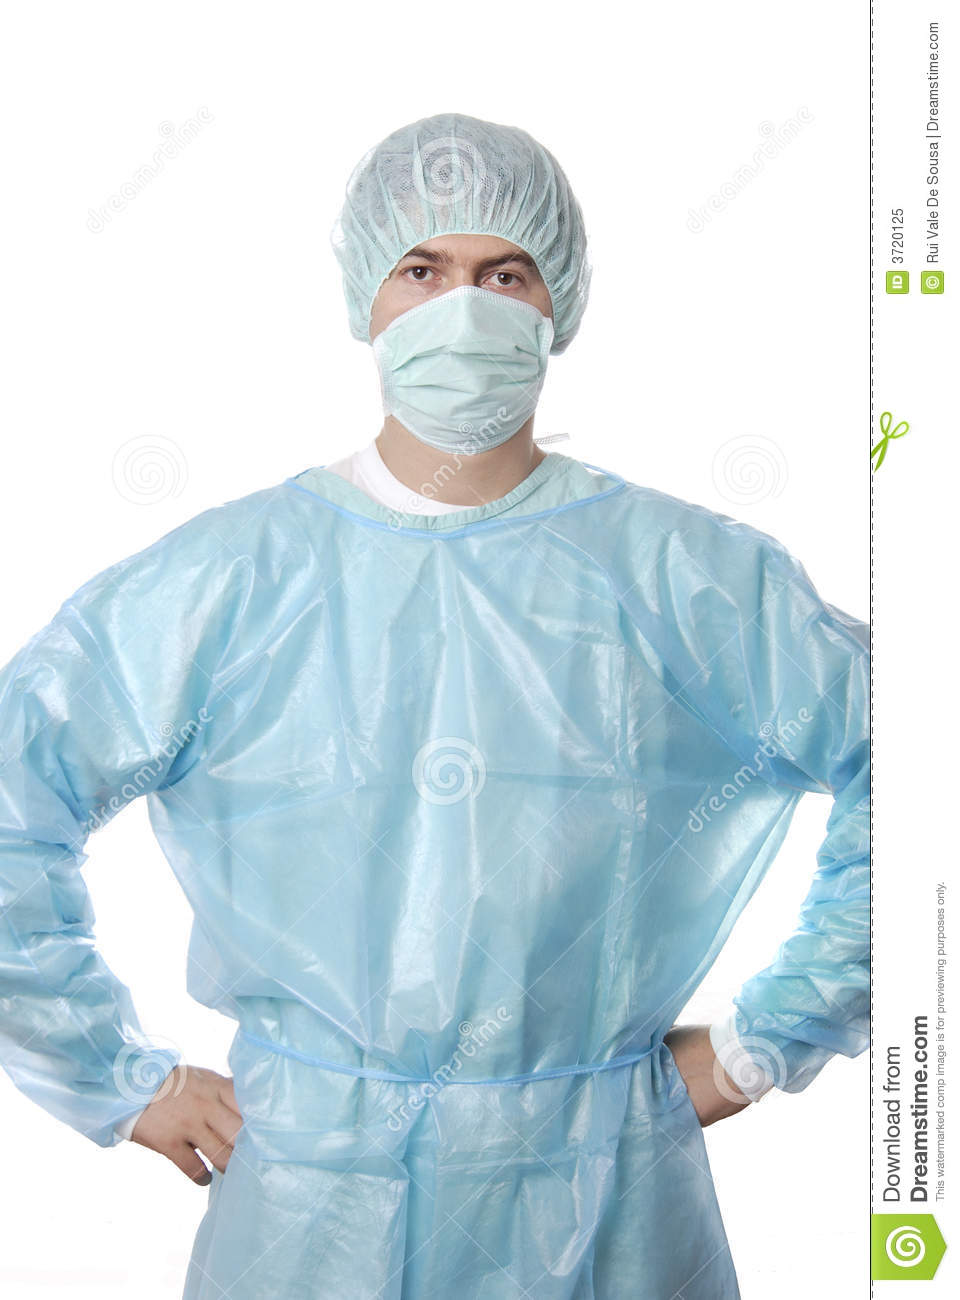mask: (376, 307, 572, 465)
